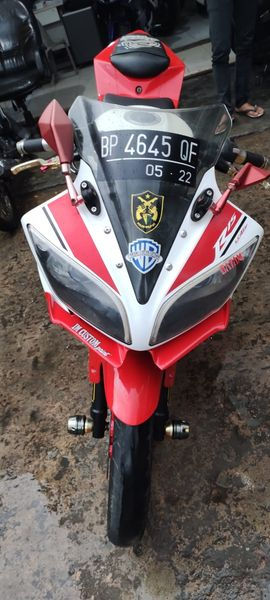plate: (91, 127, 205, 190)
